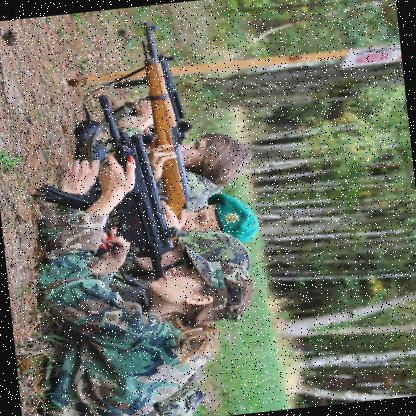rifle: (21, 94, 189, 291), (72, 13, 198, 149), (108, 41, 188, 228)
